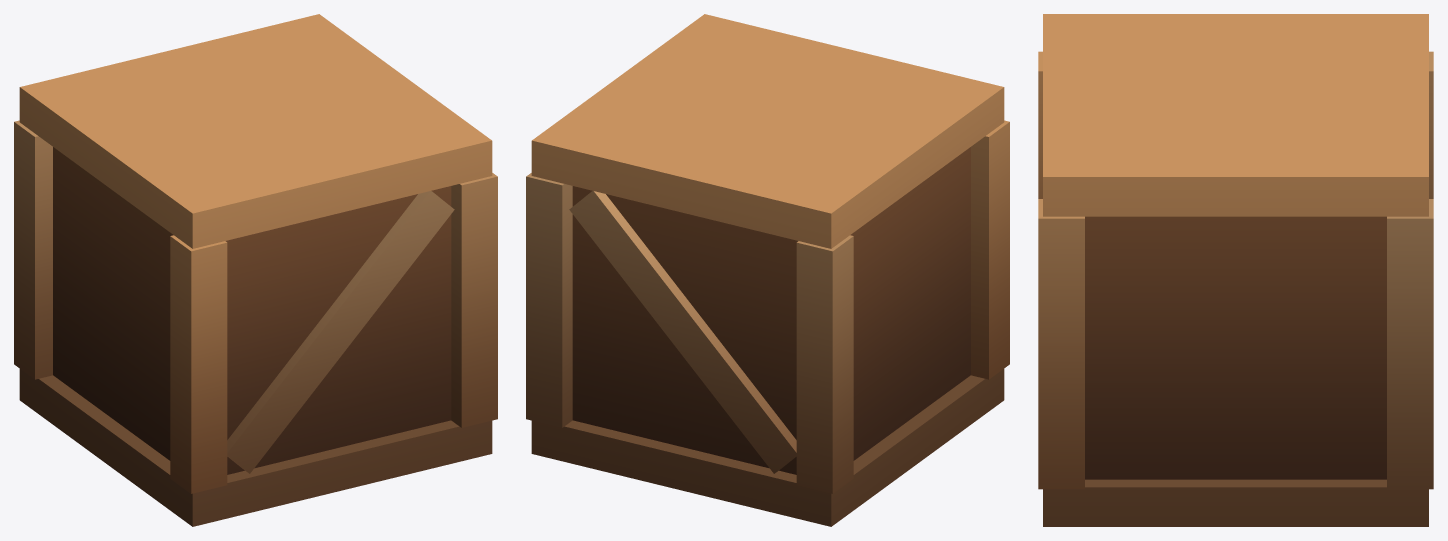
The model's file is PlayGround_Kit_Crate.fbx.
3 views of the same model, side by side, from view 1: azimuth 30°, elevation 25°; view 2: azimuth 150°, elevation 25°; view 3: azimuth 270°, elevation 25° (orthographic). The views are drawn at different scales.
Parts seen in each view (by area): view 1: PlayGround_Kit_Crate; view 2: PlayGround_Kit_Crate; view 3: PlayGround_Kit_Crate.
Boxes of the visible parts, x1,y1,x2,y2 form: PlayGround_Kit_Crate: [14, 14, 497, 526]; PlayGround_Kit_Crate: [526, 14, 1009, 526]; PlayGround_Kit_Crate: [1038, 14, 1433, 526].
Size of the model in its own units: 0.635 by 0.62 by 0.635.
